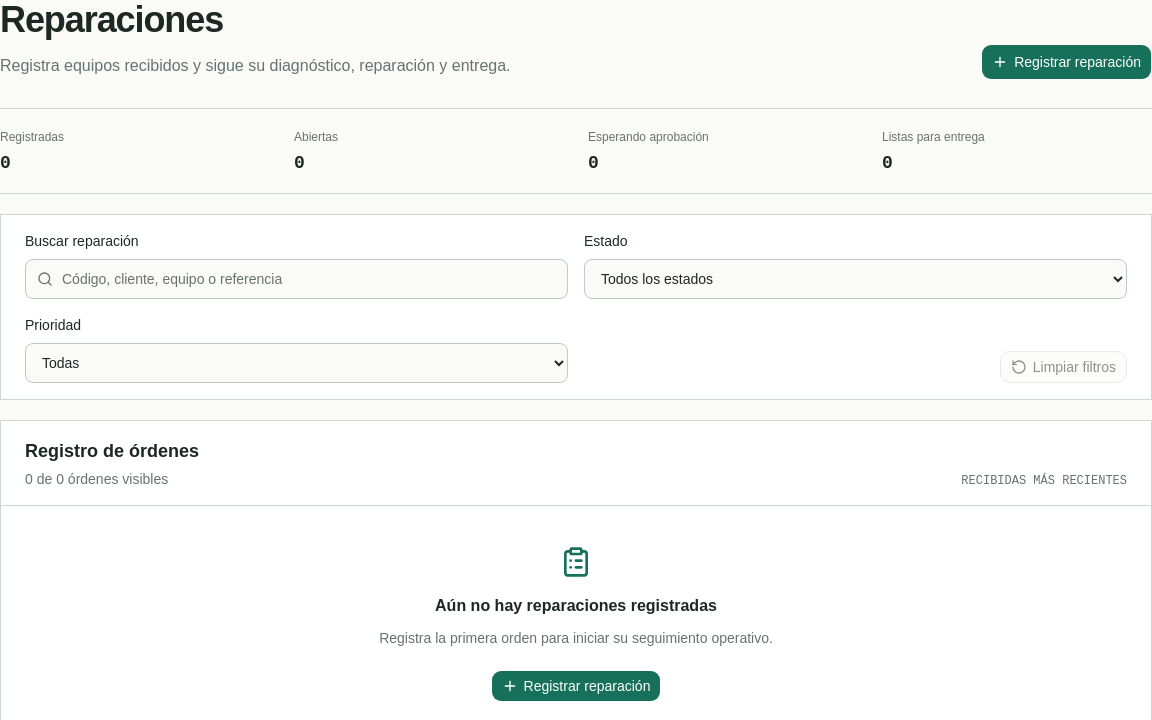
ReparacionesPage: primer bloque › distingue el registro vacío de una búsqueda sin coincidencias y permite limpiar
Check: the text "Aún no hay reparaciones registradas" is shown, box [435, 594, 717, 618]
Check: the button "Limpiar filtros" is disabled, box [1000, 351, 1127, 383]
Type "no existe" into the search field labelled "Buscar reparación" at (296, 279), box [25, 259, 568, 299]
(page scrolled)
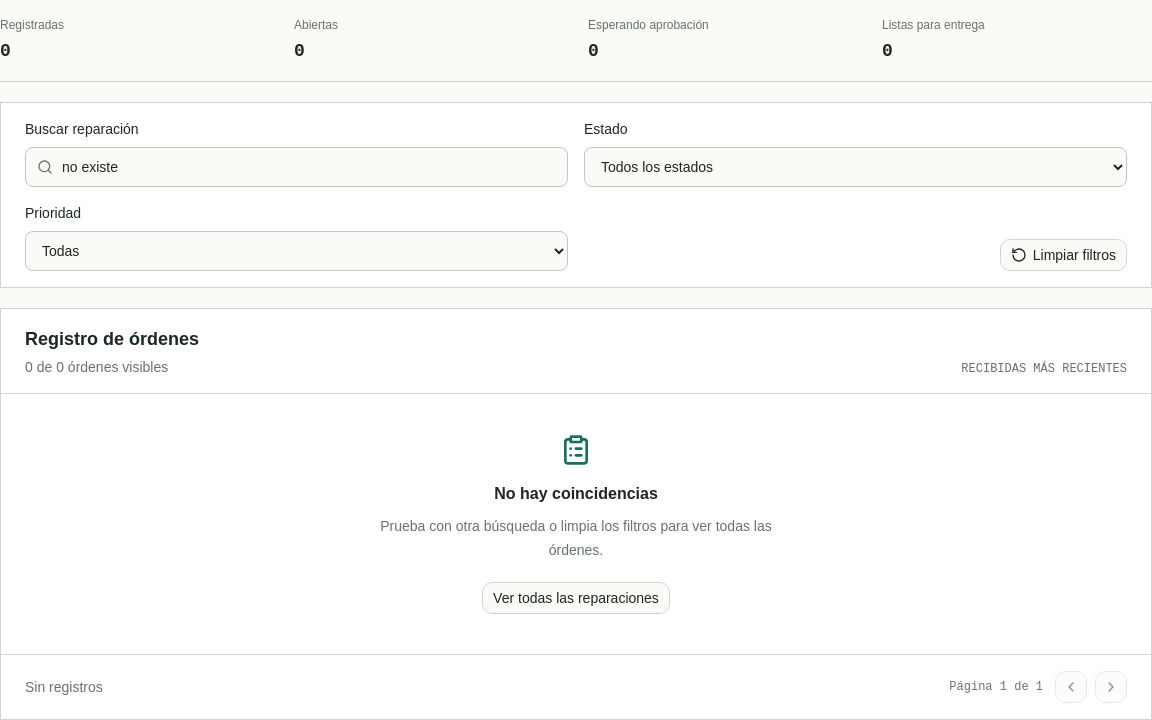
Check: the text "No hay coincidencias" is shown, box [494, 482, 658, 506]
Check: the text "Aún no hay reparaciones registradas" is gone
Click the button "Ver todas las reparaciones" at (576, 598), box [482, 582, 670, 614]
(page scrolled)
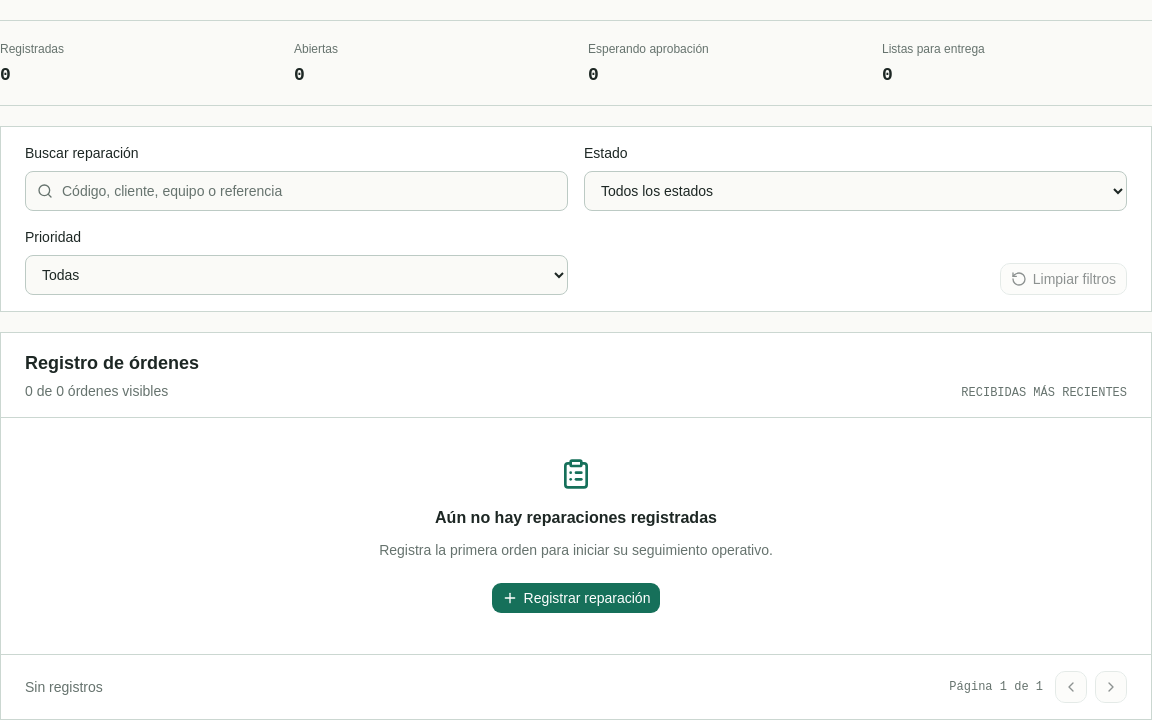
Check: the search field is empty, box [25, 171, 568, 211]
Check: the text "Aún no hay reparaciones registradas" is shown, box [435, 506, 717, 530]
